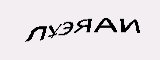Б: (81, 4, 100, 34)
М: (29, 15, 49, 35)
С: (101, 2, 124, 31), (64, 6, 81, 31)
Ю: (47, 9, 64, 34)
